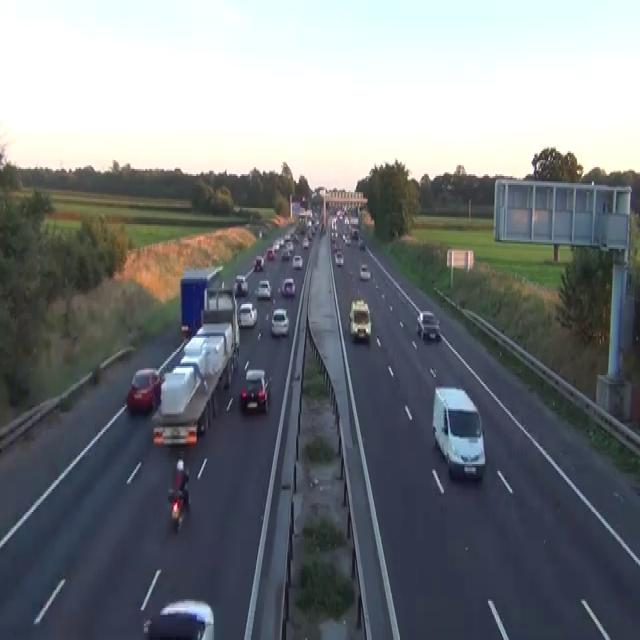Car: (143, 599, 214, 638), (159, 363, 207, 416), (126, 367, 164, 412), (167, 457, 189, 530), (239, 368, 270, 412), (348, 298, 371, 339), (152, 425, 197, 444), (416, 310, 440, 340), (173, 457, 189, 491), (271, 308, 289, 336), (237, 302, 257, 327), (171, 492, 183, 521), (233, 274, 248, 295), (256, 279, 271, 299), (281, 277, 295, 295), (359, 263, 370, 279), (253, 254, 264, 270), (292, 254, 303, 268), (334, 250, 343, 266), (266, 247, 274, 260), (233, 281, 240, 295), (441, 182, 453, 190), (286, 240, 294, 252), (281, 249, 290, 259), (302, 236, 308, 249), (358, 238, 365, 249), (350, 217, 358, 226), (351, 228, 358, 238), (257, 327, 262, 341), (344, 235, 351, 245), (233, 204, 240, 213), (278, 237, 285, 246), (272, 242, 279, 250), (293, 233, 299, 242), (258, 230, 262, 238)
Truck: (151, 282, 240, 444), (432, 386, 485, 482), (179, 265, 223, 338)
